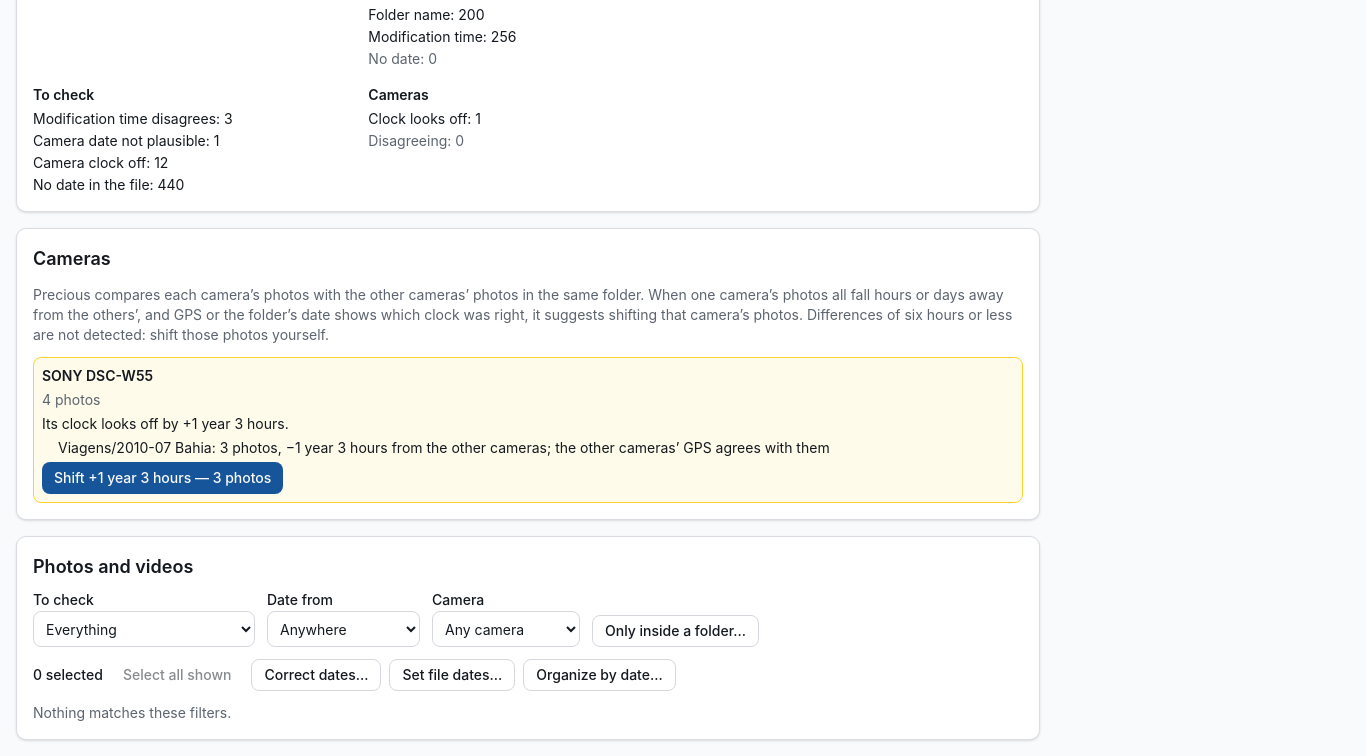
Test: The Dates screen › previews a camera’s shift as the server applies it, and counts only the photos it moves
(page scrolled)
Click the button "Shift +1 year 3 hours — 3 photos".
click(163, 478)  # box top-left (42, 462), bottom-right (283, 494)
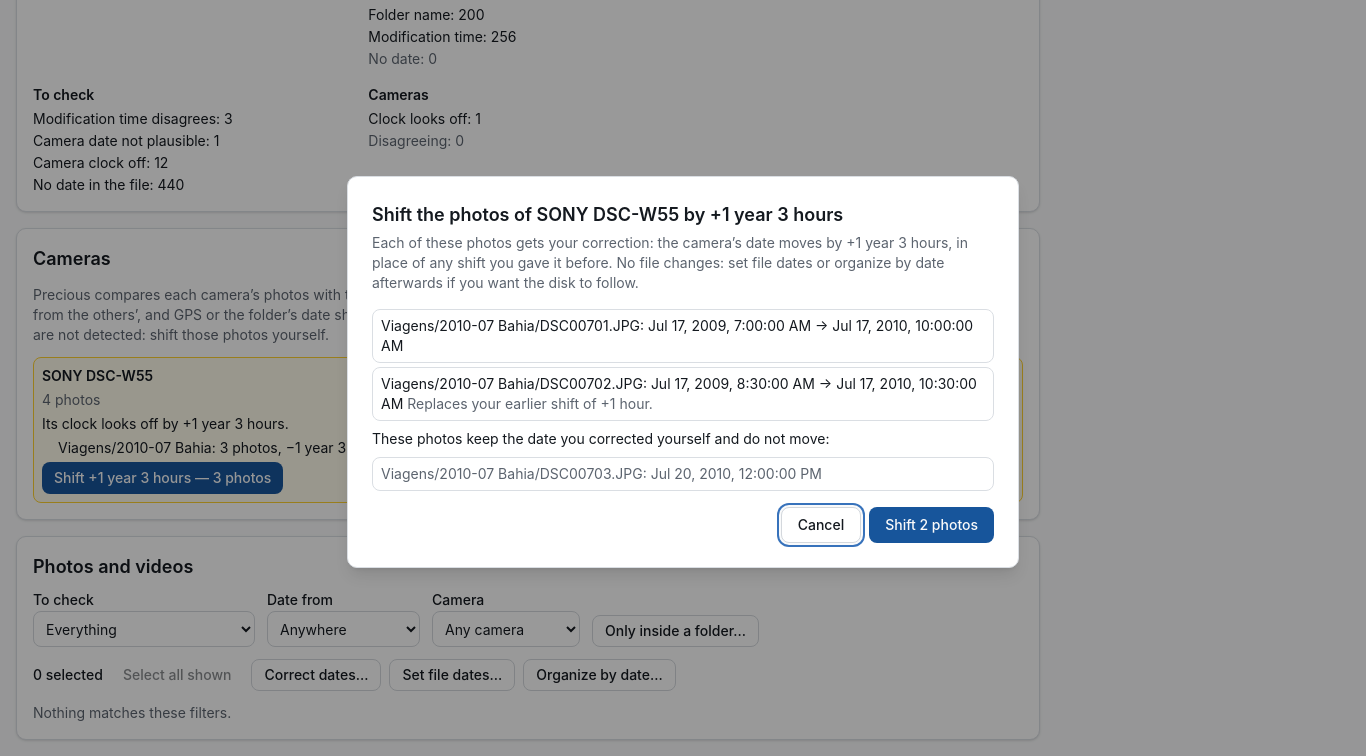
Expected: the list item does not show "+1 hour"
Expected: the 2nd list item shows "+1 hour", top-left (407, 395), bottom-right (653, 412)
Click the button "Shift 2 photos".
click(932, 525)  # box top-left (869, 507), bottom-right (994, 543)
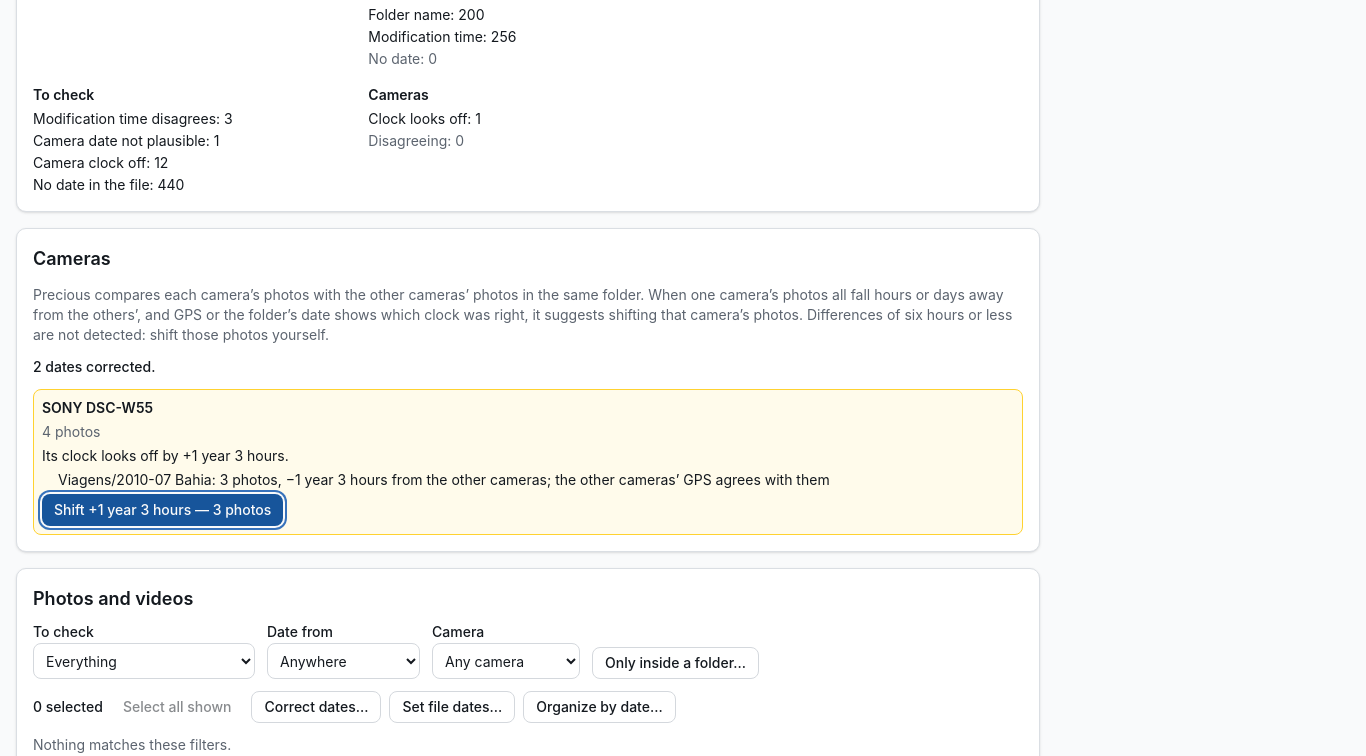
Expected: the text "2 dates corrected." is shown, top-left (33, 358), bottom-right (155, 375)
